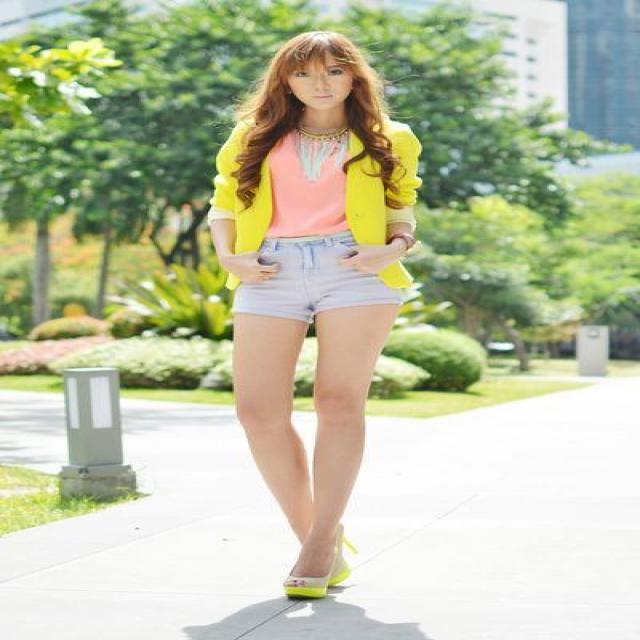jacket: (211, 115, 440, 288)
shirt: (264, 136, 349, 238)
shoe: (269, 566, 347, 600)
shorts: (230, 230, 421, 319)
